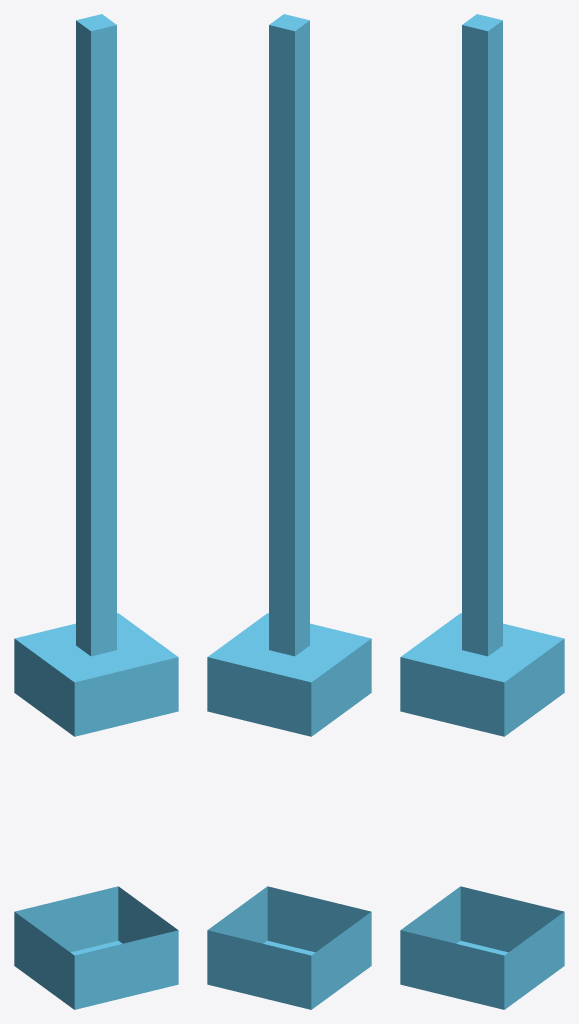
The model's file is sp_panel_offset_editor.dae.
3 renders of one model, left to right at view 1: azimuth 30°, elevation 25°; view 2: azimuth 150°, elevation 25°; view 3: azimuth 330°, elevation 25°, orthographic.
Parts seen in each view (by area): view 1: panel_offset_editor; view 2: panel_offset_editor; view 3: panel_offset_editor.
Part boxes in pixels (x1,y1,x2,y2): panel_offset_editor: (14,14,178,1009); panel_offset_editor: (207,14,371,1009); panel_offset_editor: (400,14,564,1009).
Size of the model in its own units: 0.02 by 0.02 by 0.1751.
